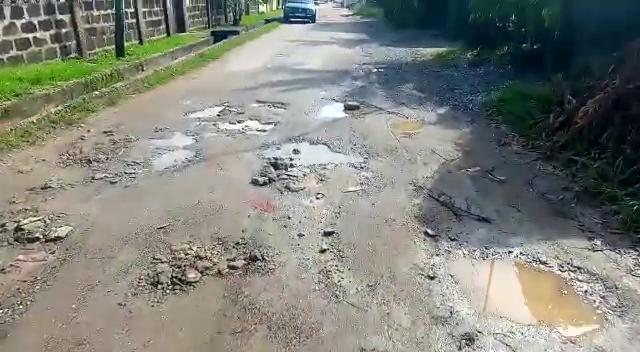pothole: (424, 248, 622, 339), (262, 140, 369, 166), (210, 117, 276, 134), (145, 129, 195, 146), (313, 100, 353, 119), (187, 103, 230, 119), (386, 117, 426, 133), (250, 98, 292, 109)
